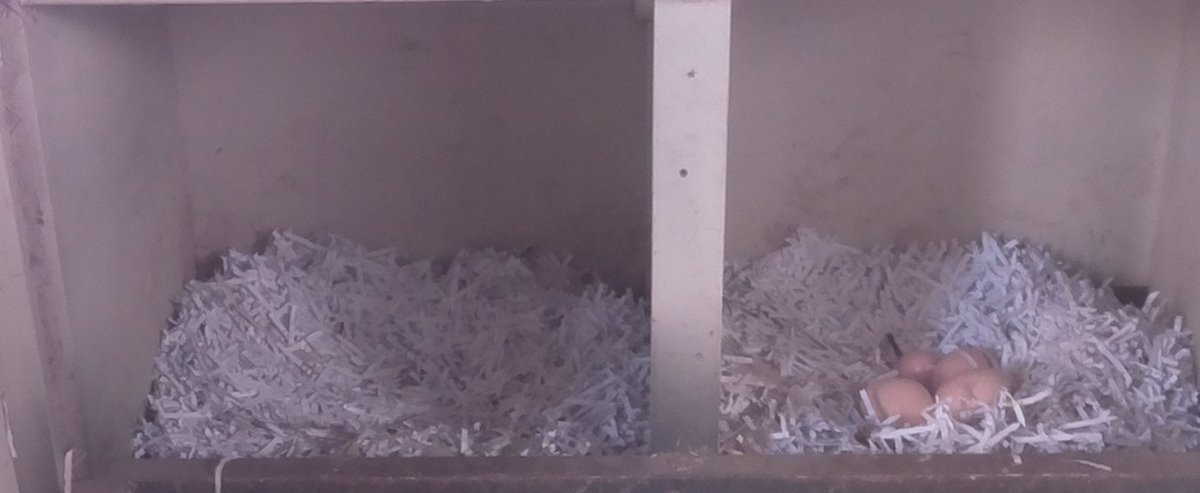egg: (933, 363, 1017, 423), (855, 375, 939, 430), (930, 349, 992, 387), (894, 349, 937, 383)
